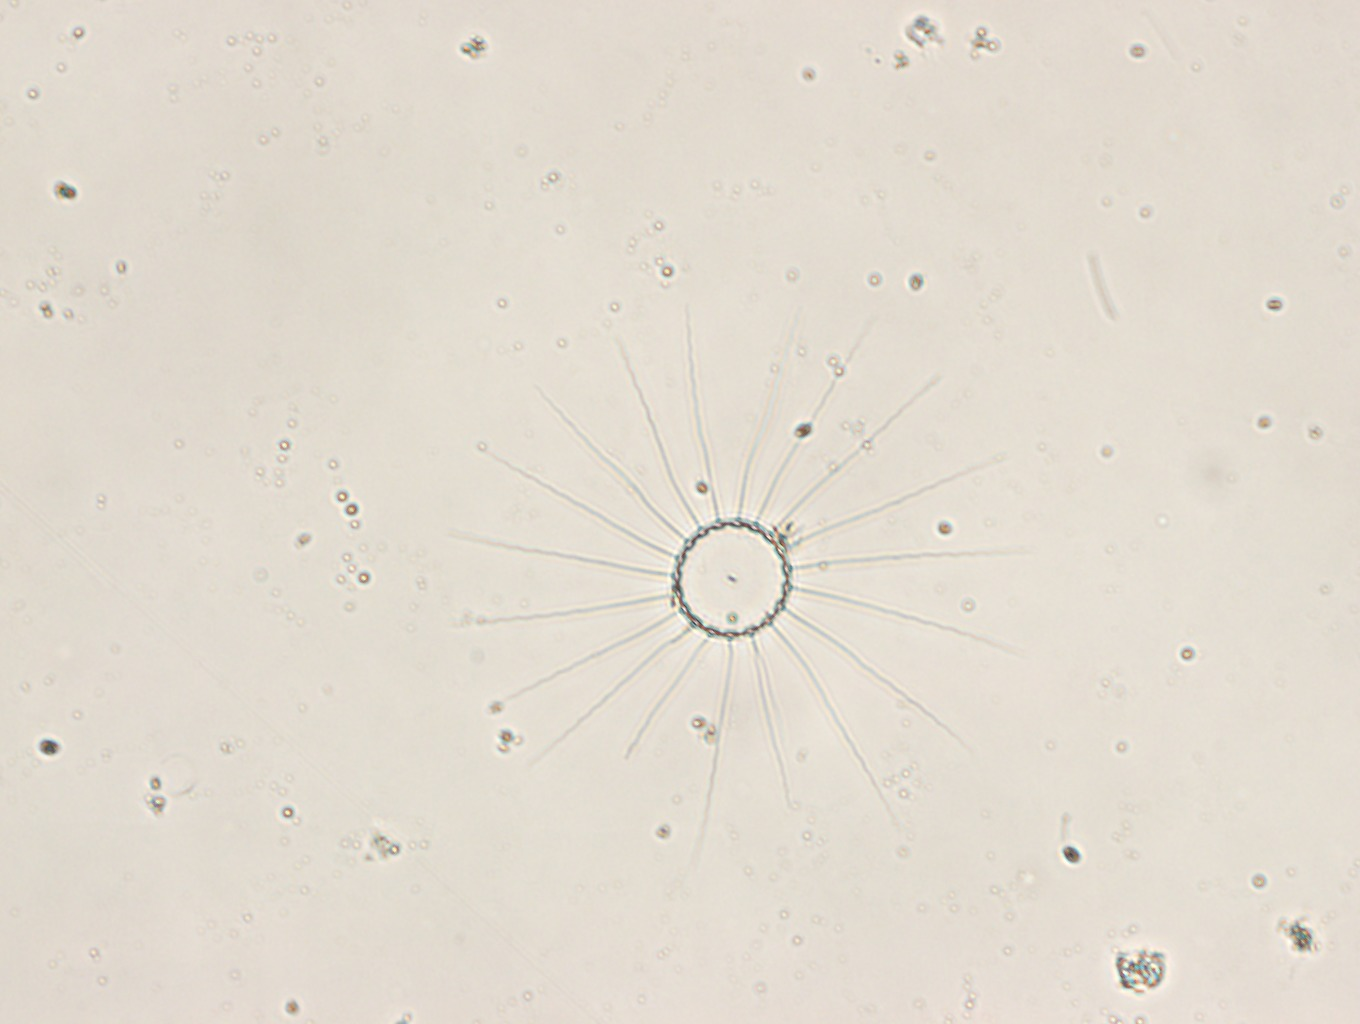bacteriastrum: (452, 297, 1027, 861)
